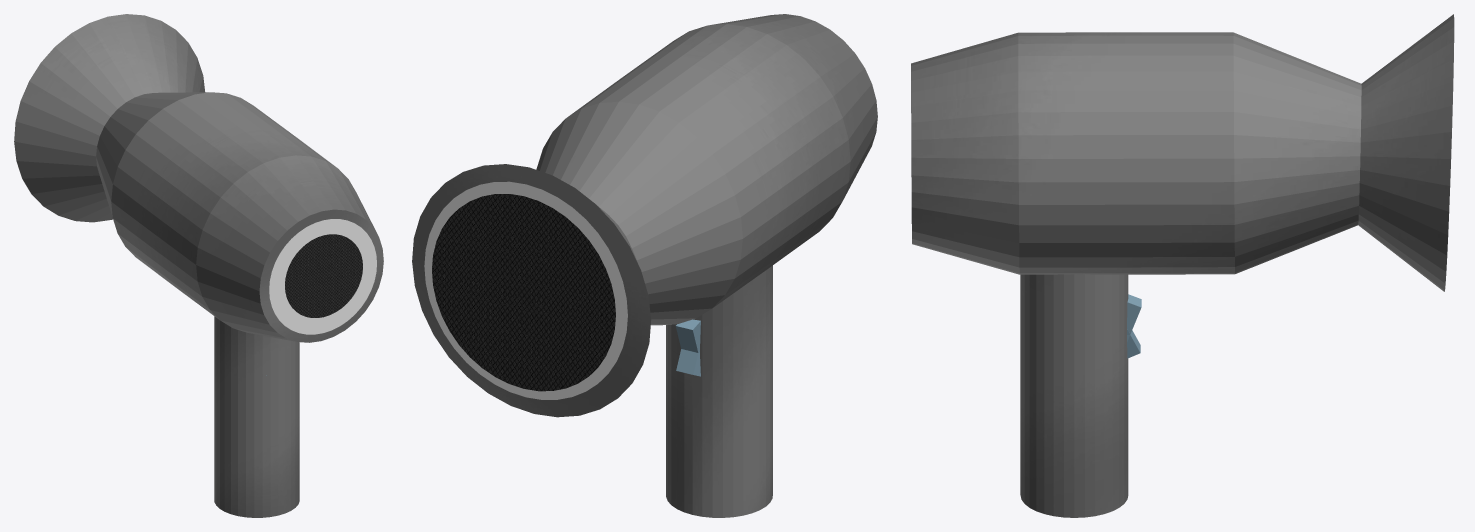
Rendered from blower_02l.fbx.
3 renders of one model, left to right at view 1: azimuth 30°, elevation 25°; view 2: azimuth 150°, elevation 25°; view 3: azimuth 270°, elevation 25°, orthographic. The views are drawn at different scales.
Parts seen in each view (by area): view 1: 柱体.002, 柱体, 圆环.003, 圆环.002; view 2: 柱体.002, 圆环.001, 柱体, 圆环, 立方体, 立方体.001; view 3: 柱体.002, 柱体.
Part boxes in pixels (<box>): 柱体.002: <box>14,14,383,342</box>; 柱体: <box>214,316,299,517</box>; 圆环.003: <box>285,234,362,317</box>; 圆环.002: <box>269,219,376,334</box>; 柱体.002: <box>412,14,877,417</box>; 圆环.001: <box>432,194,615,391</box>; 柱体: <box>666,265,772,517</box>; 圆环: <box>424,181,627,399</box>; 立方体: <box>675,319,700,352</box>; 立方体.001: <box>676,349,700,376</box>; 柱体.002: <box>911,14,1454,291</box>; 柱体: <box>1020,274,1128,517</box>.
Bounding box in the file's own units: 247 × 460 × 493.
Materials: 8 (8 with a texture image).
